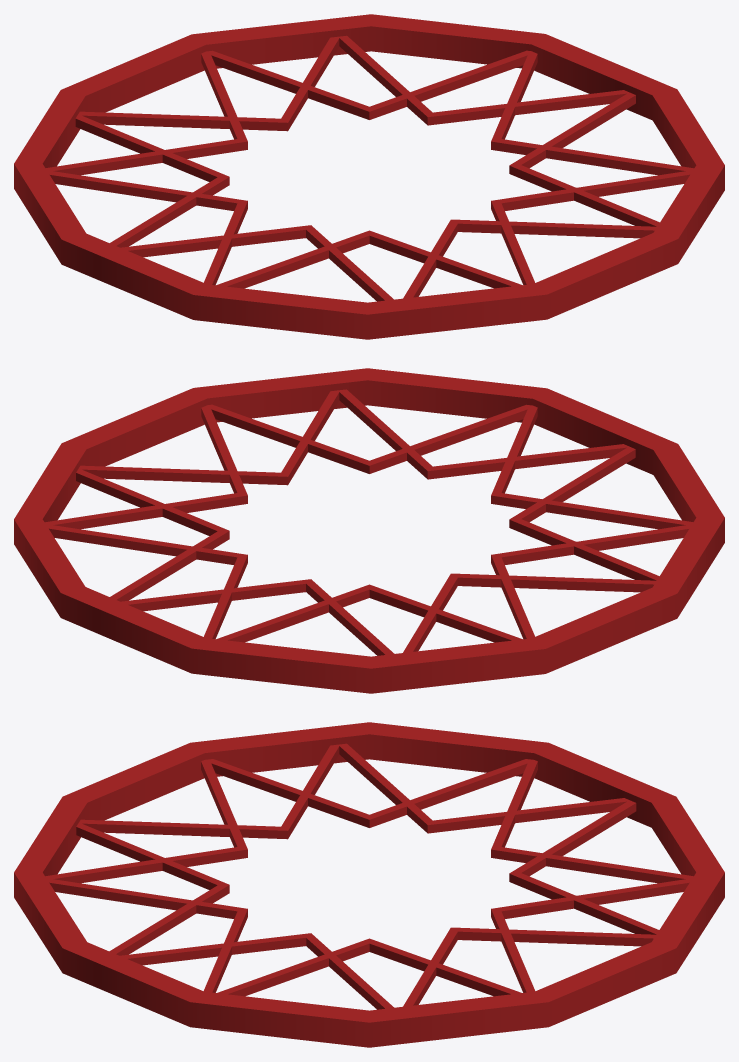
File: SummoningCircleDetail.fbx
The picture shows the model from 3 angles, top to bottom: view 1: azimuth 30°, elevation 25°; view 2: azimuth 150°, elevation 25°; view 3: azimuth 270°, elevation 25°; orthographic projection.
Parts seen in each view (by area): view 1: Circle001; view 2: Circle001; view 3: Circle001.
Boxes of the visible parts, x1=… form: Circle001: x1=14, y1=14, x2=724, y2=339; Circle001: x1=14, y1=368, x2=724, y2=693; Circle001: x1=14, y1=722, x2=724, y2=1047.
Bounding box in the file's own units: 77.11 × 77.11 × 3.
